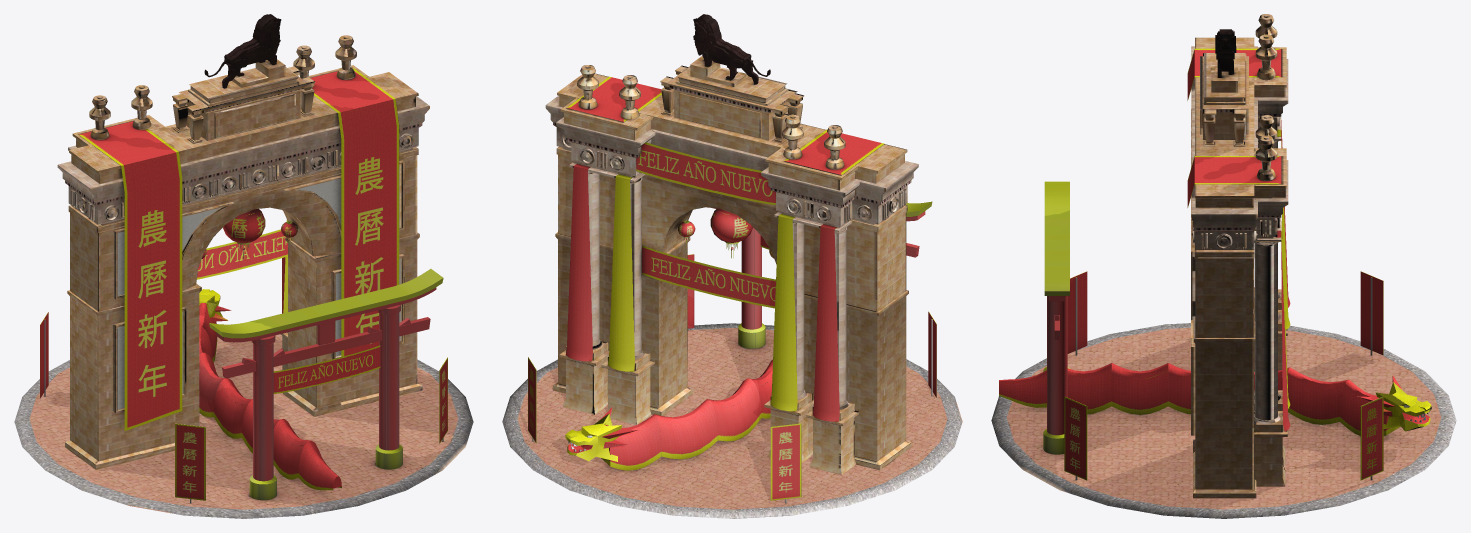
The model's file is chino.gltf.
3 renders of one model, left to right at view 1: azimuth 30°, elevation 25°; view 2: azimuth 150°, elevation 25°; view 3: azimuth 270°, elevation 25°, orthographic.
Visible parts, largest first — view 1: China_BaseArco, China_SkinArco, China_SkinPiso, China_Dragon, OG_BaseLeon; view 2: China_BaseArco, China_SkinArco, China_Dragon, China_SkinPiso, OG_BaseLeon; view 3: China_BaseArco, China_SkinPiso, China_Dragon, China_SkinArco, OG_BaseLeon.
Boxes of the visible parts, x1,y1,x2,y2 form: China_BaseArco: (14,35,473,518); China_SkinArco: (78,67,399,430); China_SkinPiso: (40,257,447,503); China_Dragon: (199,289,341,490); OG_BaseLeon: (204,14,281,88); China_BaseArco: (502,56,962,518); China_SkinArco: (565,76,884,421); China_Dragon: (565,359,772,470); China_SkinPiso: (528,201,936,503); OG_BaseLeon: (693,14,770,84); China_BaseArco: (991,14,1456,518); China_SkinPiso: (1043,181,1383,480); China_Dragon: (999,363,1431,435); China_SkinArco: (1187,48,1290,431); OG_BaseLeon: (1215,29,1236,77).
Bounding box in the file's own units: 412 × 394 × 412.
5 materials, 5 textured.
